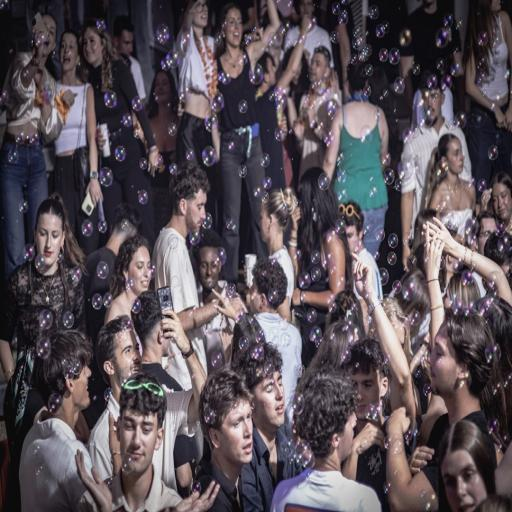face: (117, 409, 163, 474), (441, 450, 487, 511), (211, 402, 252, 466), (430, 324, 461, 397), (349, 370, 387, 420), (253, 372, 284, 430), (35, 214, 64, 272), (112, 329, 141, 385), (125, 247, 151, 296), (199, 247, 221, 291), (185, 190, 206, 232), (83, 28, 104, 67), (222, 8, 242, 47), (423, 89, 444, 125), (492, 183, 511, 222), (60, 33, 79, 72), (446, 138, 464, 174), (309, 53, 329, 84), (191, 0, 208, 28)
